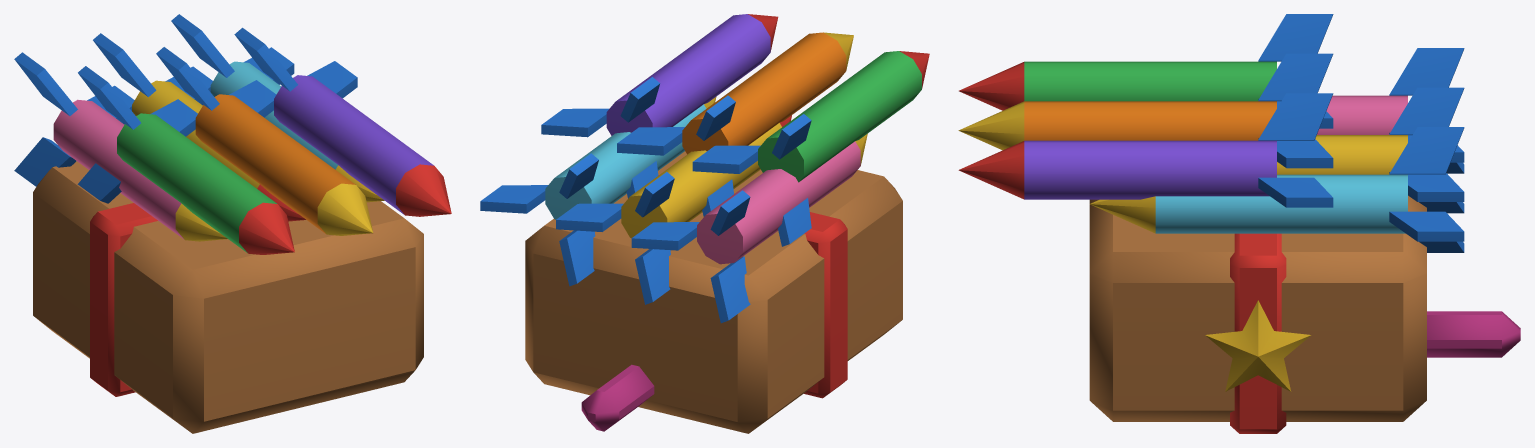
Rendered from w_g_battery.glb.
The picture shows the model from 3 angles, left to right: view 1: azimuth 30°, elevation 25°; view 2: azimuth 150°, elevation 25°; view 3: azimuth 270°, elevation 25°; orthographic projection. The views are drawn at different scales.
Parts seen in each view (by area): view 1: body; view 2: body; view 3: body.
Boxes of the visible parts, bbox=[...] form: body: bbox=[14, 14, 451, 433]; body: bbox=[480, 14, 929, 433]; body: bbox=[958, 14, 1520, 433].
Bounding box in the file's own units: 0.245 × 0.2513 × 0.42.
